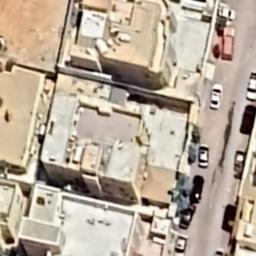pickup: (247, 67, 256, 101)
sedan: (240, 103, 256, 137), (195, 142, 213, 172), (177, 204, 197, 230), (189, 174, 205, 206), (215, 2, 239, 22), (208, 83, 225, 111), (222, 202, 236, 236), (169, 233, 189, 256), (233, 148, 249, 176), (213, 246, 226, 256)
van: (220, 26, 236, 60)
